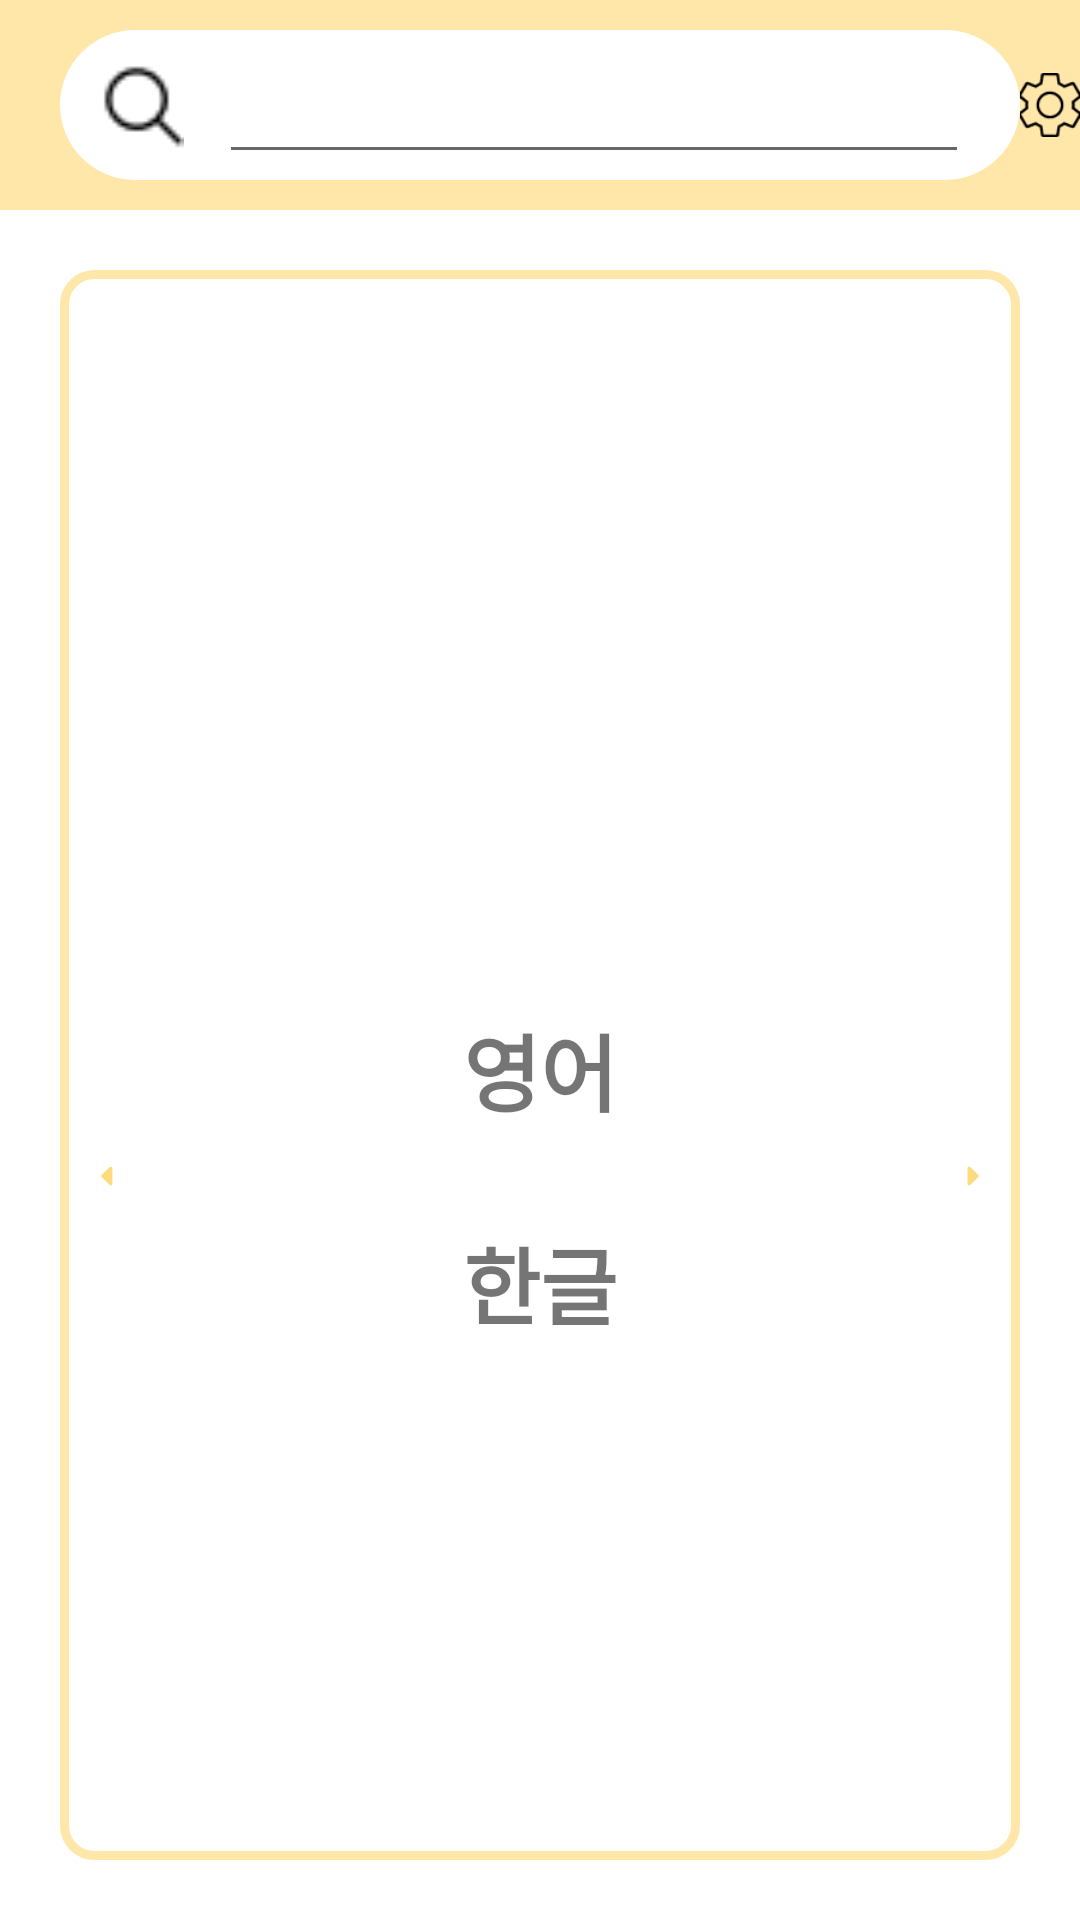

Named icons in this screenshot (1080px×1920px) and their bounding boxes, (x1, y1, x2, y2):
search: (104, 66, 184, 147)
settin: (1020, 73, 1080, 137)
